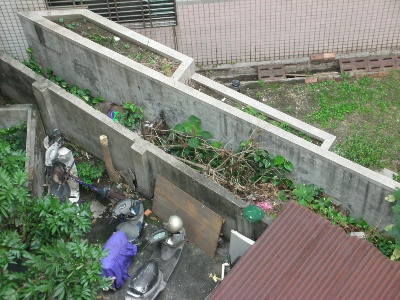plastic_bag: (96, 229, 138, 291)
